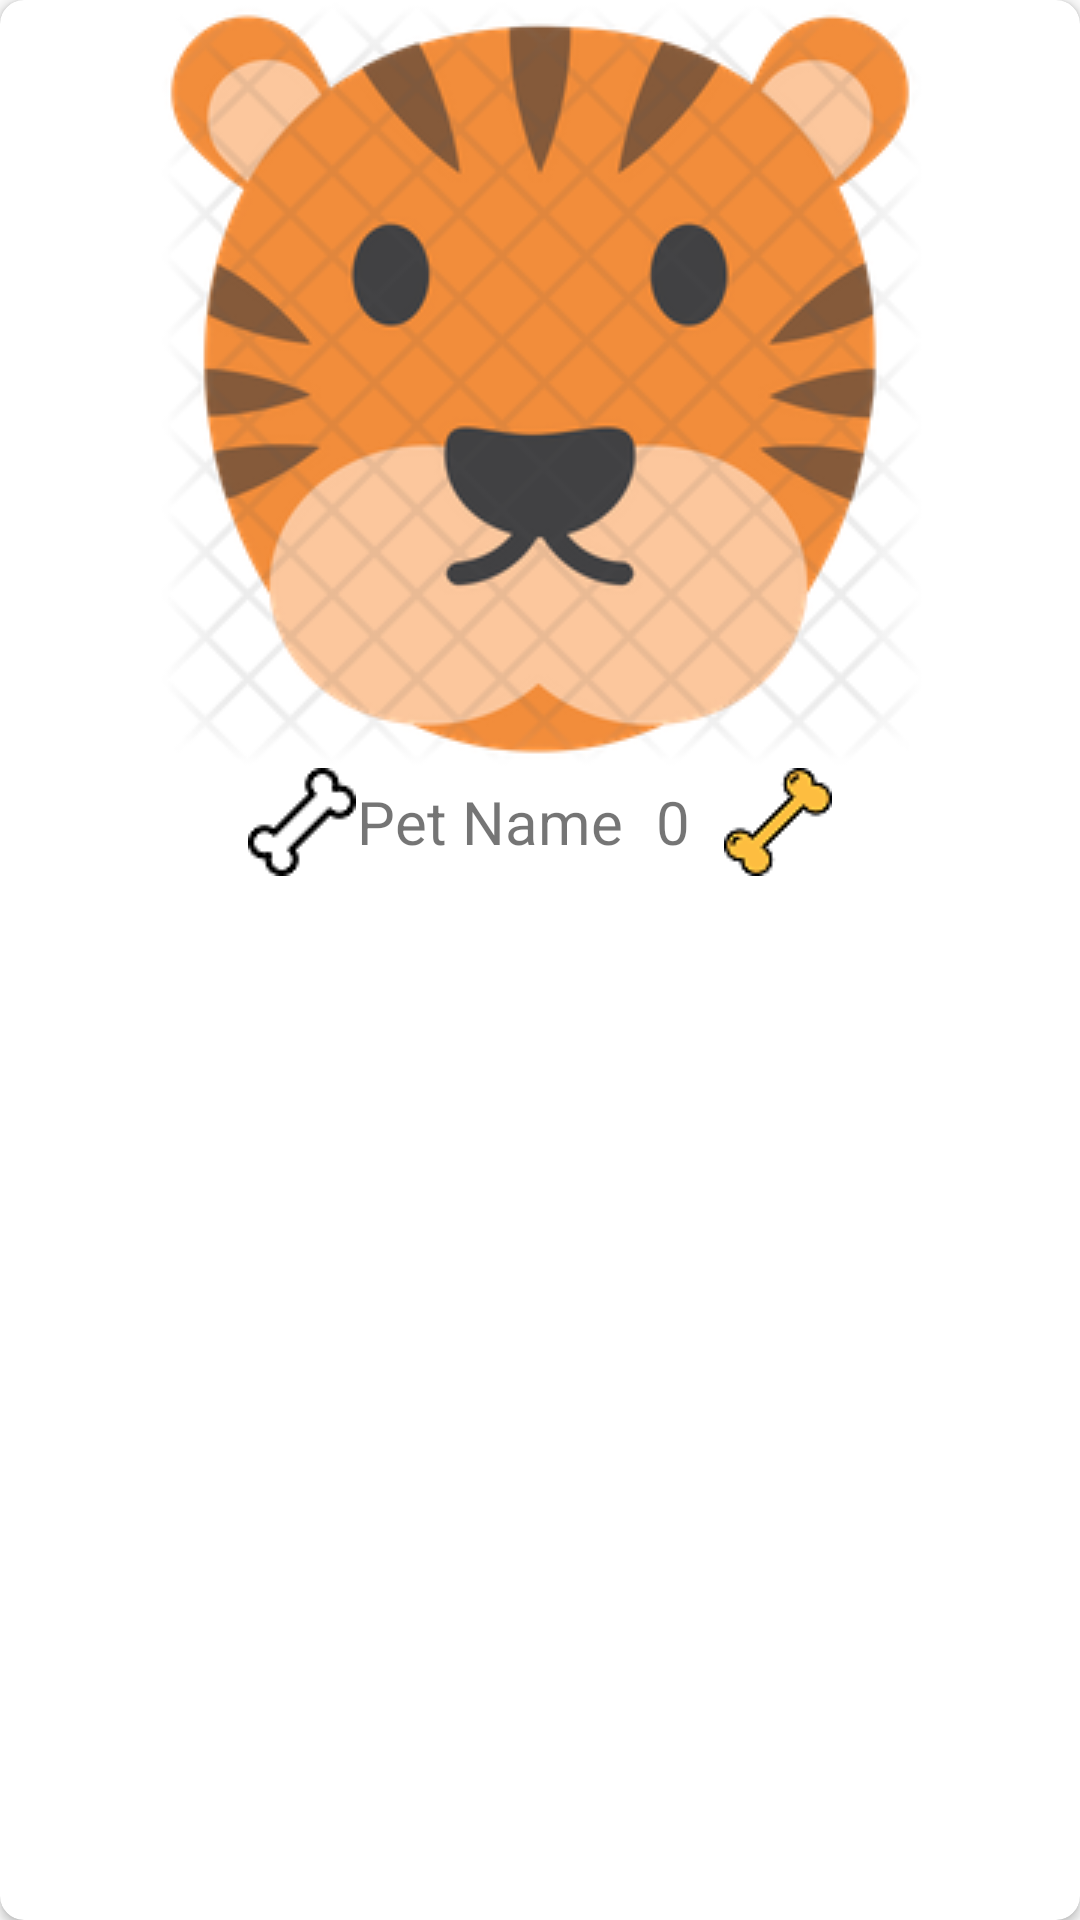

Screen size 1080px×1920px. Icon name, then its box in pixels as (x1, y1, x2, y2):
bone: (248, 768, 356, 876), (724, 768, 832, 876)
